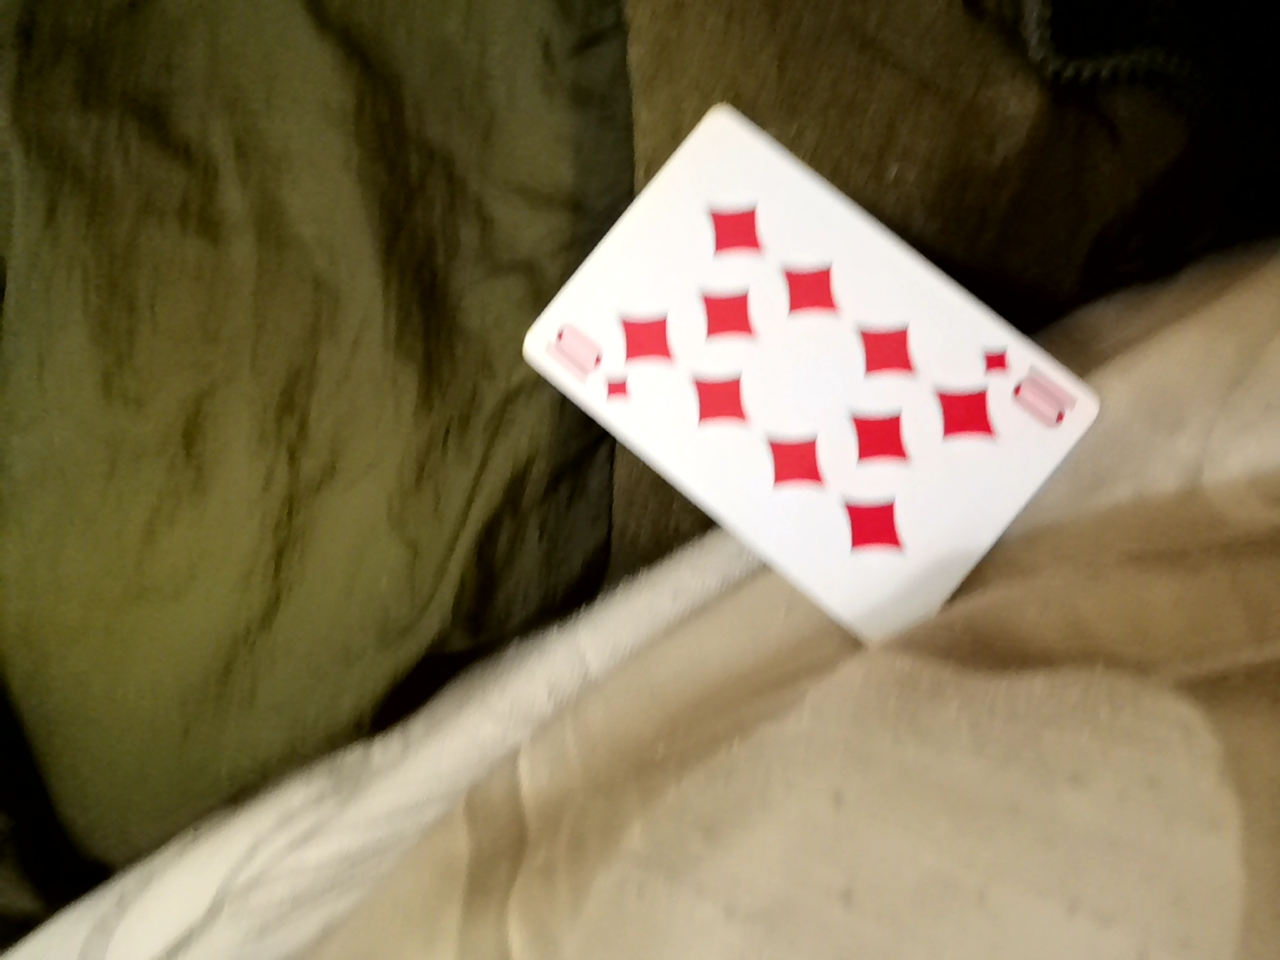fk 10: (518, 0, 1135, 488)
